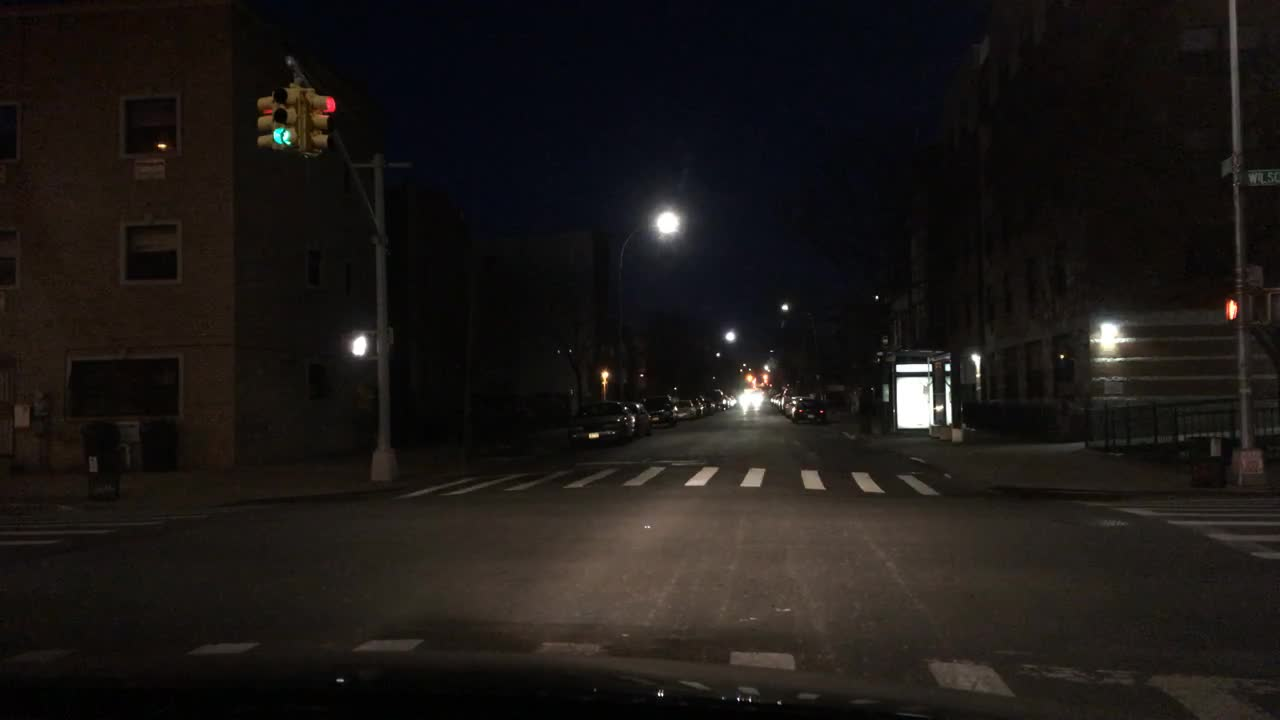car: (566, 398, 634, 445), (642, 394, 679, 426), (624, 398, 650, 437), (789, 401, 829, 424), (735, 389, 761, 410), (784, 392, 802, 417), (674, 398, 695, 419), (708, 388, 728, 410), (696, 394, 716, 413), (775, 392, 793, 411), (689, 395, 704, 413), (725, 394, 737, 406), (769, 392, 781, 403)
traffic light: (270, 85, 300, 148), (309, 87, 334, 154), (253, 93, 273, 146), (345, 332, 367, 357), (1222, 296, 1237, 317), (759, 370, 769, 384), (743, 370, 753, 382)
traffic sign: (1244, 169, 1277, 183), (1218, 154, 1232, 177)
